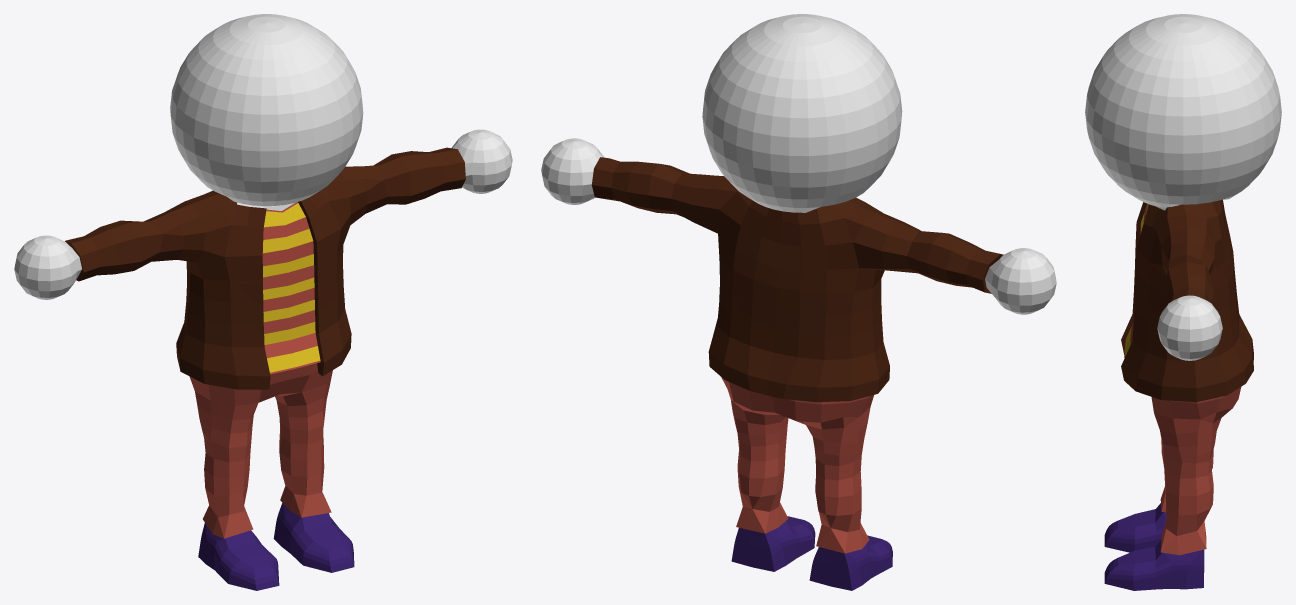
The model's file is chibi.jacket.fbx.
The picture shows the model from 3 angles, left to right: view 1: azimuth 30°, elevation 25°; view 2: azimuth 150°, elevation 25°; view 3: azimuth 270°, elevation 25°; orthographic projection. The views are drawn at different scales.
Parts seen in each view (by area): view 1: jacket; view 2: jacket; view 3: jacket.
Boxes of the visible parts, <box> form: jacket: <box>14,14,512,590</box>; jacket: <box>541,14,1056,590</box>; jacket: <box>1085,14,1281,590</box>.
Bounding box in the file's own units: 105 × 108 × 36.
